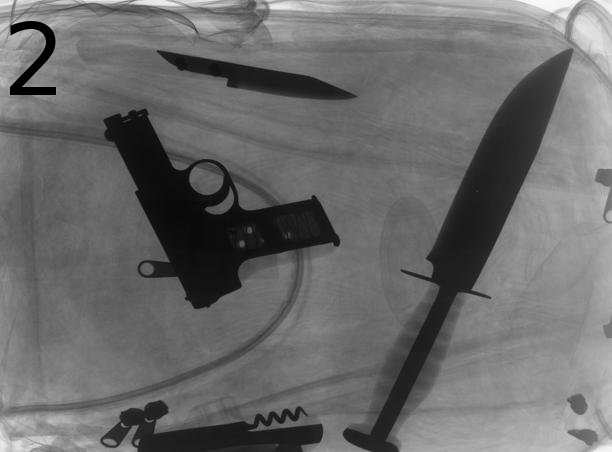Handgun: (98, 105, 342, 310)
Knife: (341, 46, 579, 452)
